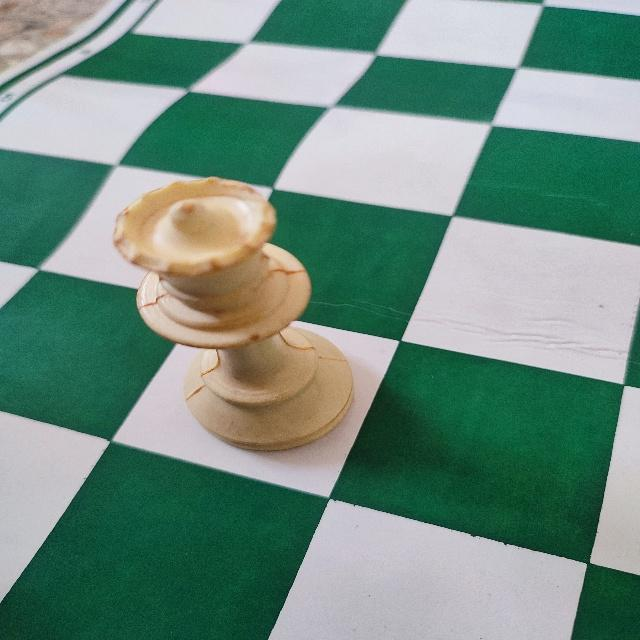Queen: (109, 174, 362, 457)
